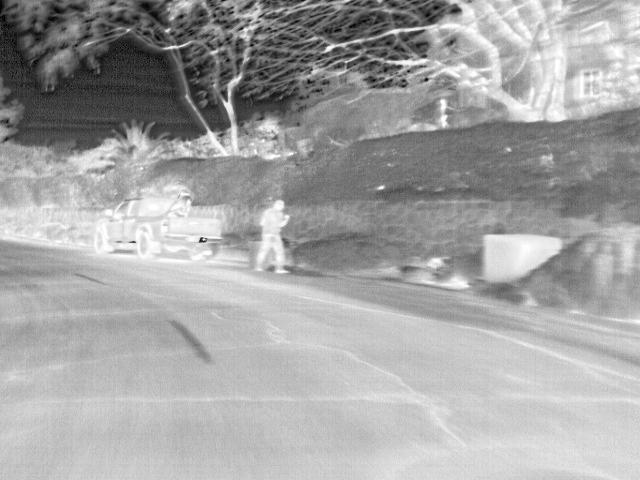car: (90, 195, 220, 260)
person: (253, 197, 292, 276)
